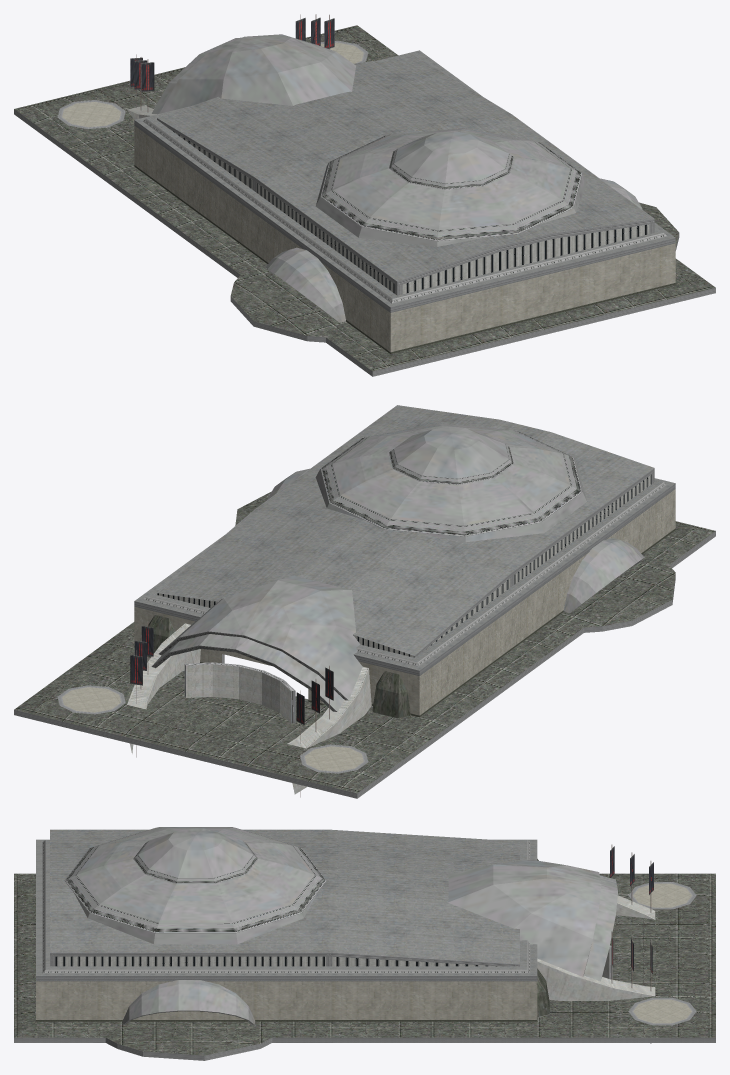
Rendered from mun_corl_guild_theater_s01_r0_mesh_l2.fbx.
3 renders of one model, top to bottom at view 1: azimuth 30°, elevation 25°; view 2: azimuth 150°, elevation 25°; view 3: azimuth 270°, elevation 25°, orthographic. The views are drawn at different scales.
Visible parts, largest first — view 1: mesh_node; view 2: mesh_node; view 3: mesh_node.
Part boxes in pixels (<box>): mesh_node: <box>14,14,715,376</box>; mesh_node: <box>14,405,715,798</box>; mesh_node: <box>14,827,715,1060</box>.
Size of the model in its own units: 81.75 by 32.27 by 121.
